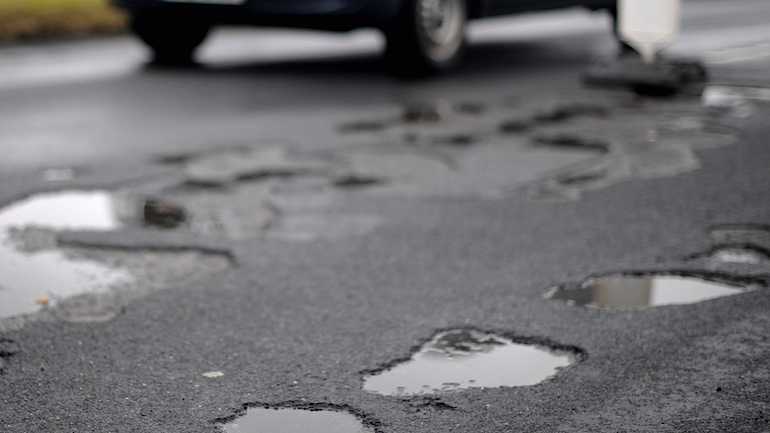pothole: (4, 146, 237, 351), (345, 324, 587, 405), (538, 265, 766, 314), (187, 396, 384, 430), (681, 242, 769, 266)
potholeGroup: (324, 89, 742, 195)
